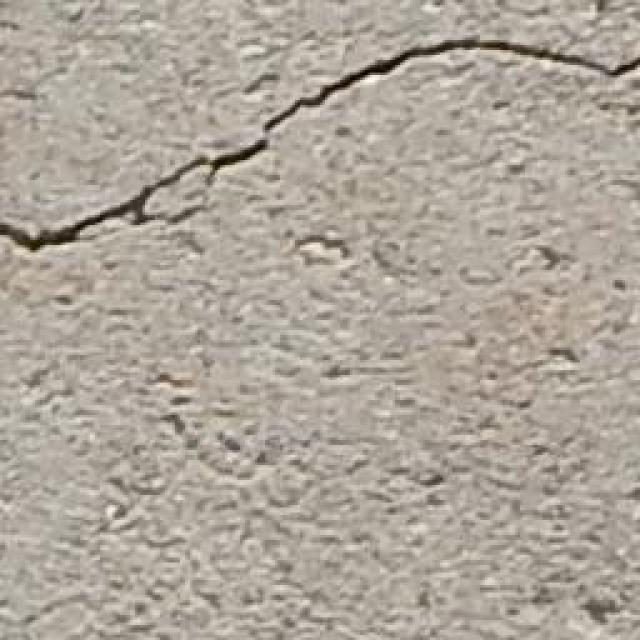concrete-crack: (0, 35, 640, 261)
